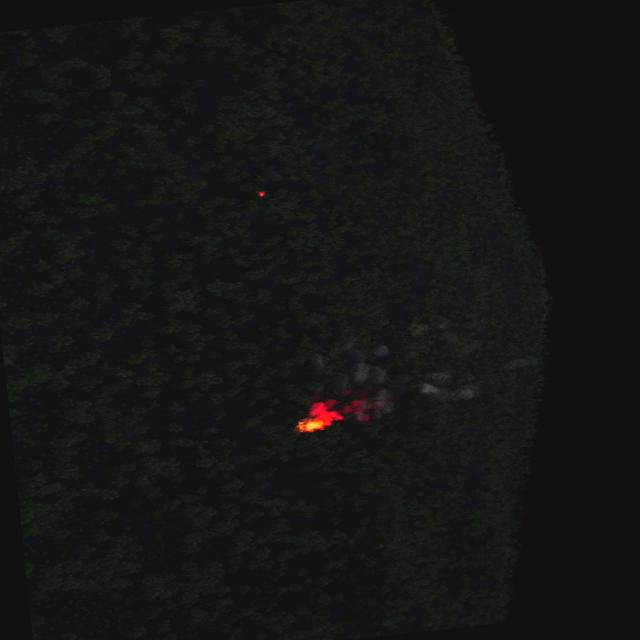fire: (294, 401, 342, 434), (256, 190, 266, 197)
smoke: (302, 340, 396, 427), (413, 369, 475, 407), (408, 319, 456, 343)
